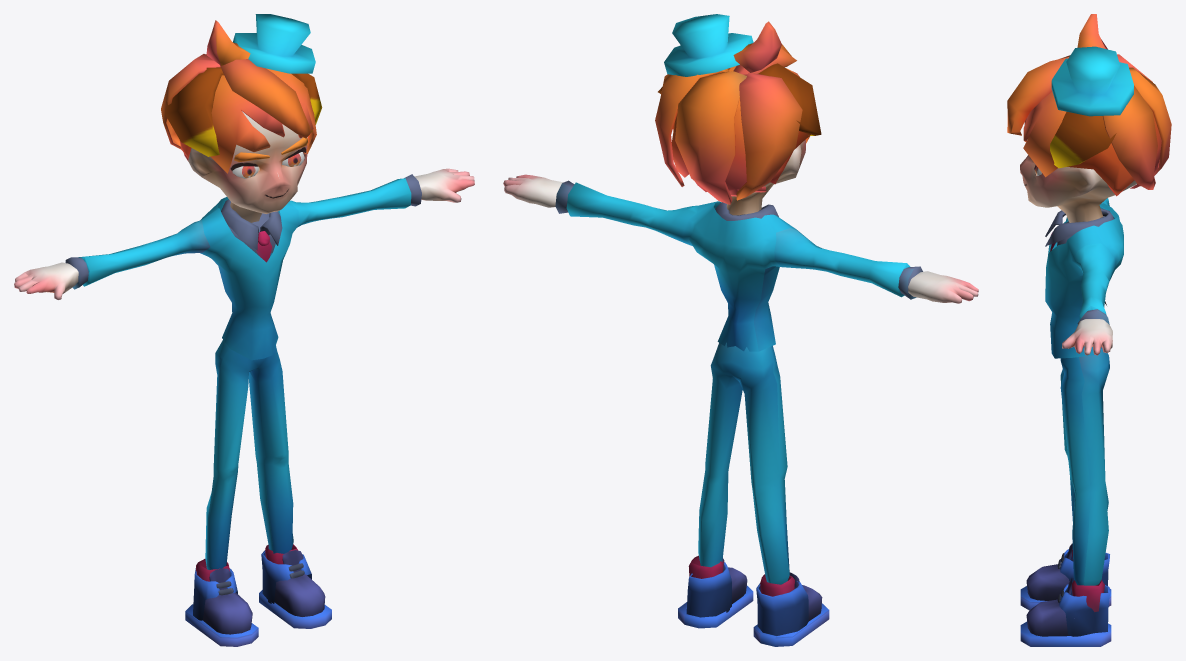
The model's file is manager4_cha.fbx.
3 renders of one model, left to right at view 1: azimuth 30°, elevation 25°; view 2: azimuth 150°, elevation 25°; view 3: azimuth 270°, elevation 25°, orthographic. The views are drawn at different scales.
Parts seen in each view (by area): view 1: Cylinder.003; view 2: Cylinder.003; view 3: Cylinder.003.
Boxes of the visible parts, left/top/right/bottom form: Cylinder.003: left=14, top=14, right=474, bottom=646; Cylinder.003: left=503, top=14, right=978, bottom=646; Cylinder.003: left=1007, top=14, right=1171, bottom=646.
Size of the model in its own units: 276 by 345 by 86.64.
